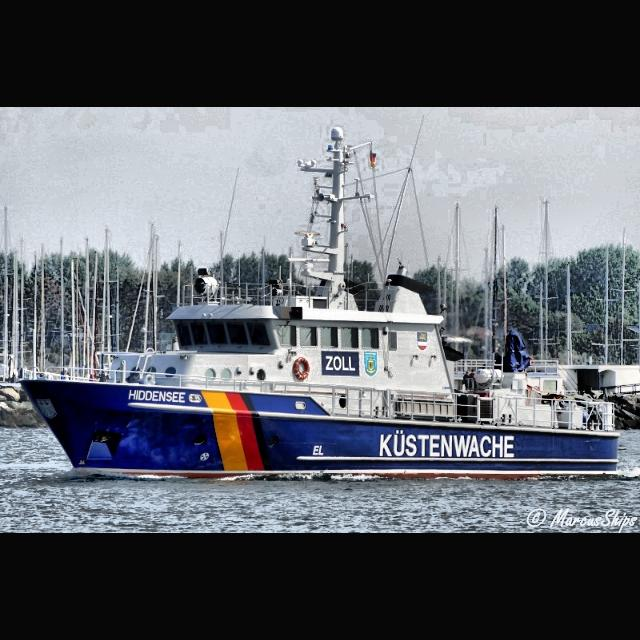patrol_vessel: (18, 246, 624, 484)
